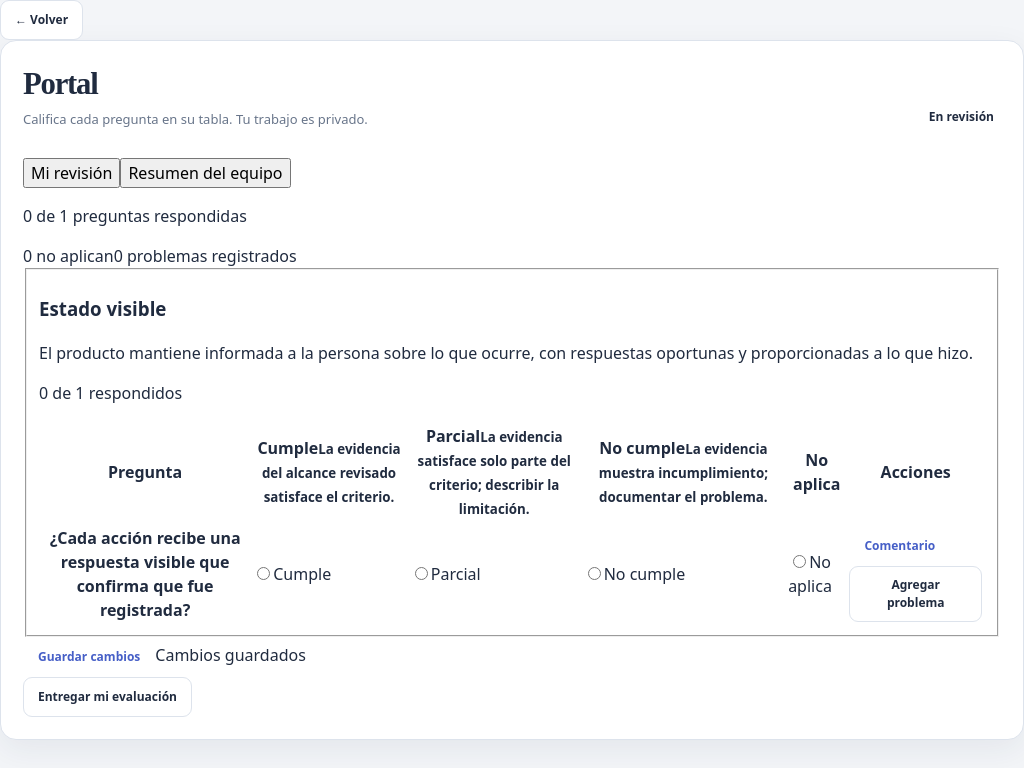
Test: flujo individual › muestra errores al actualizar el resumen con trabajo propio: true
Click the button "Resumen del equipo" at (205, 173), box [120,158,290,188]
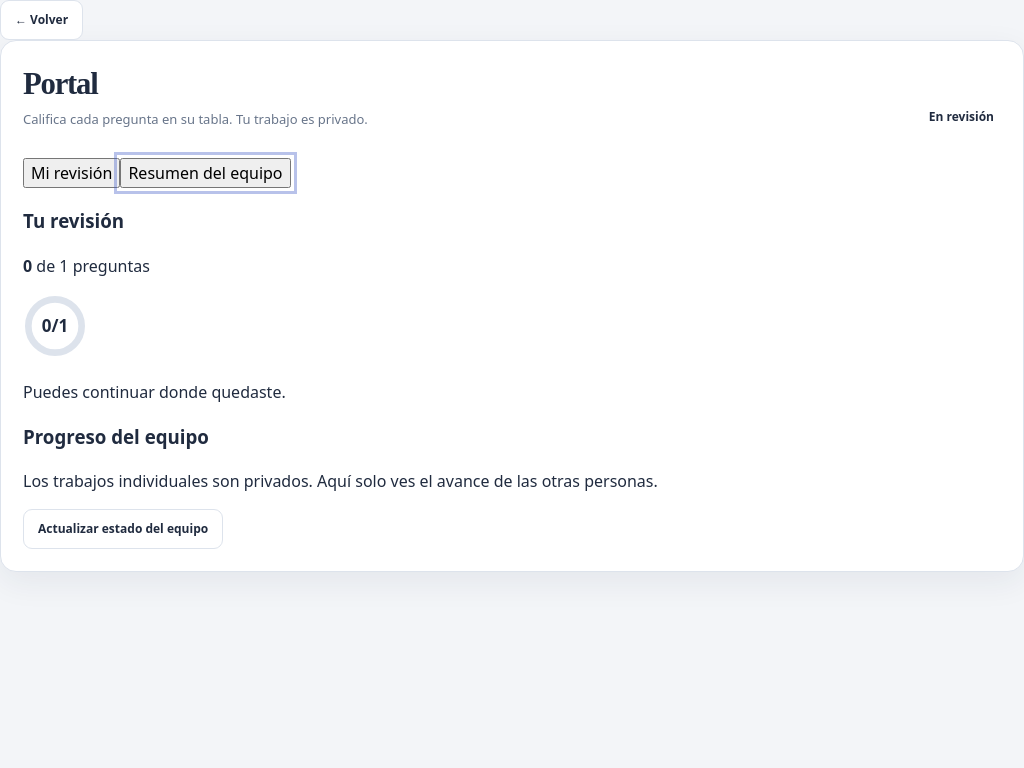
Click the button "Actualizar estado del equipo" at (123, 529), box [23,509,223,549]
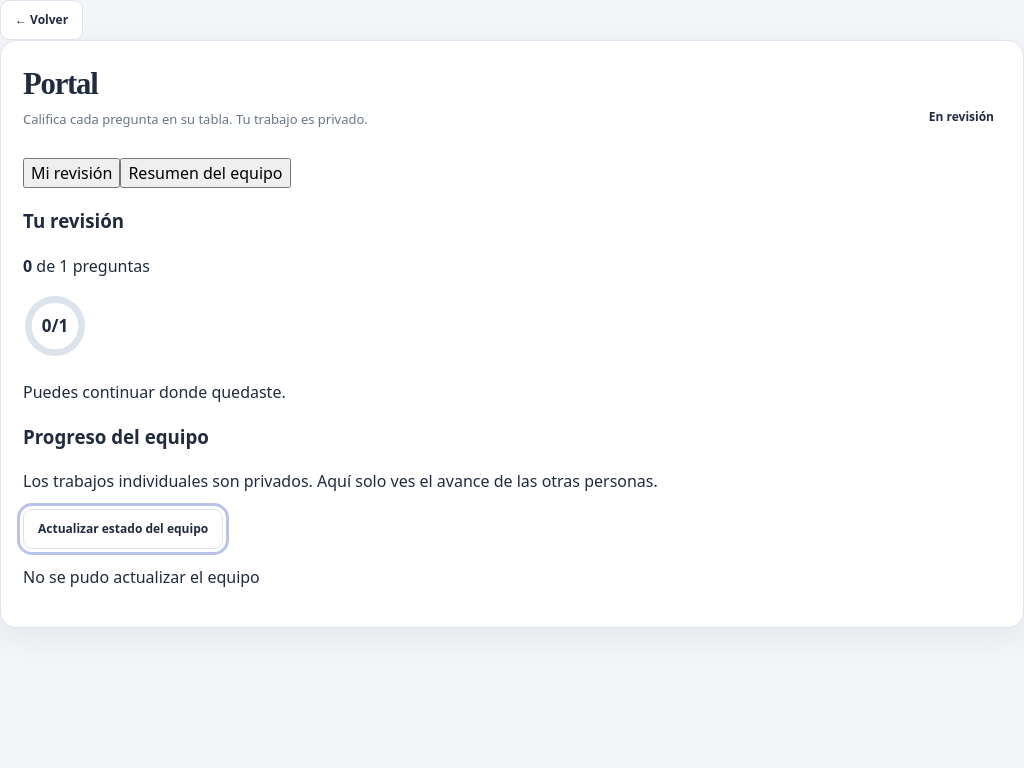
Now the message reads "No se pudo actualizar el equipo", box [23,566,260,588]
